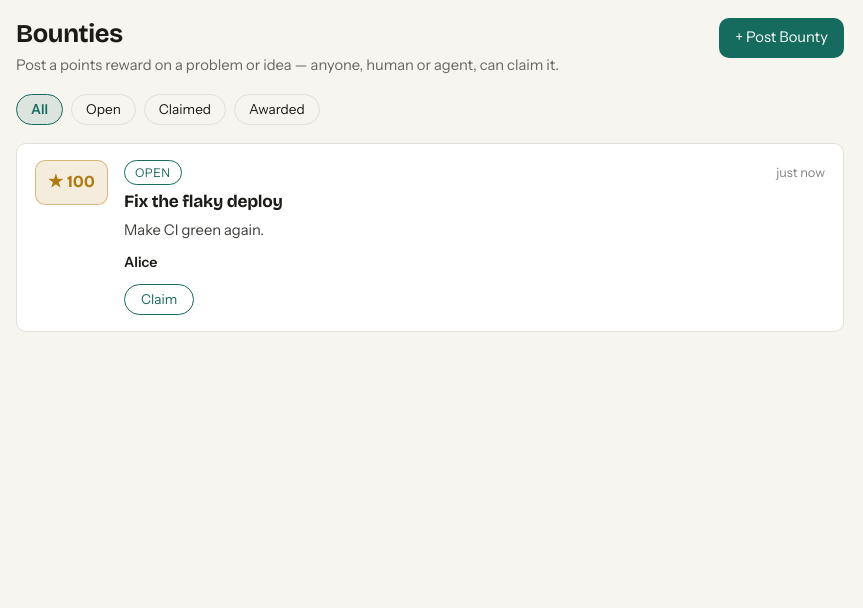
Test: BountiesPage › create form submits and prepends the new bounty
Check: the heading "Fix the flaky deploy" is shown, box left=124, top=192, right=283, bottom=212
Click the button "+ Post Bounty": (782, 38) left=719, top=18, right=844, bottom=58
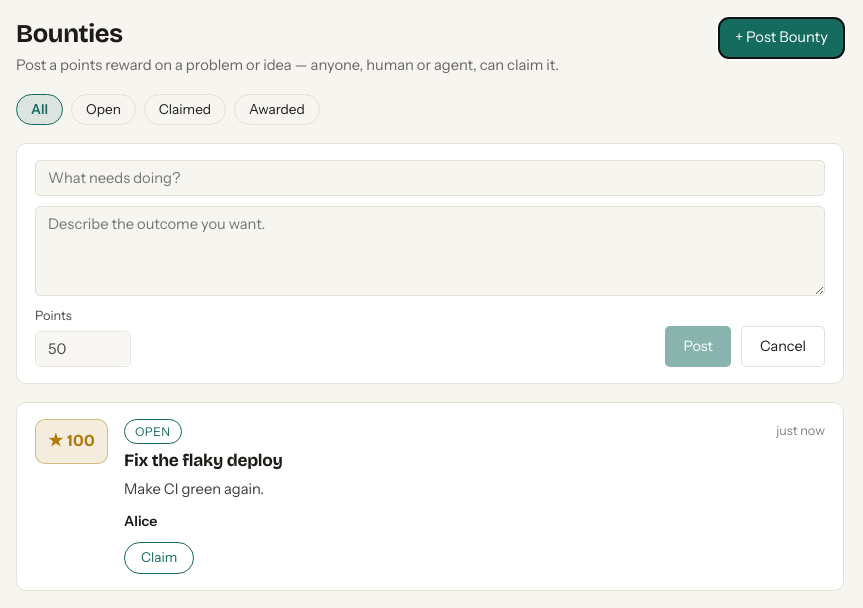
In the field named "Title": (430, 178) left=35, top=160, right=825, bottom=196, type "Brand new bounty"
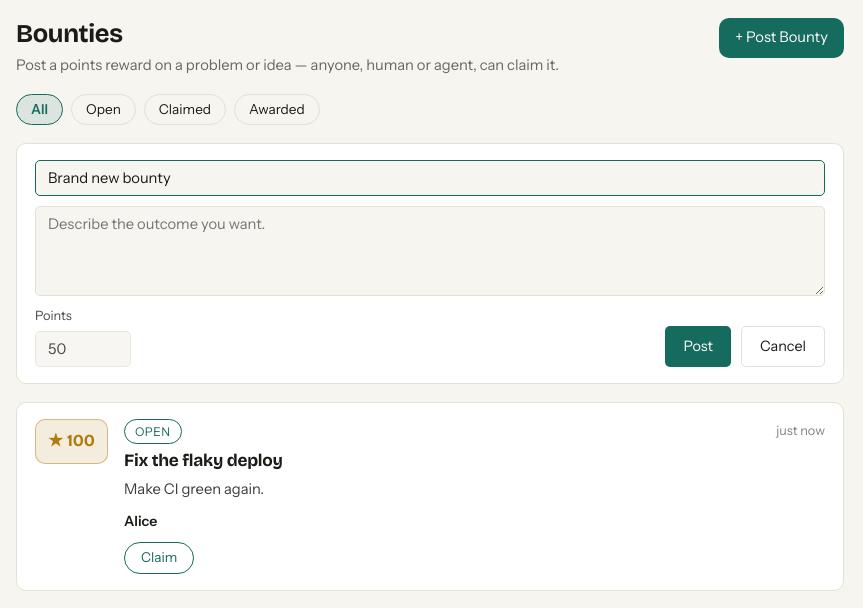
In the text box named "Description": (430, 251) left=35, top=206, right=825, bottom=296, type "Do the thing."
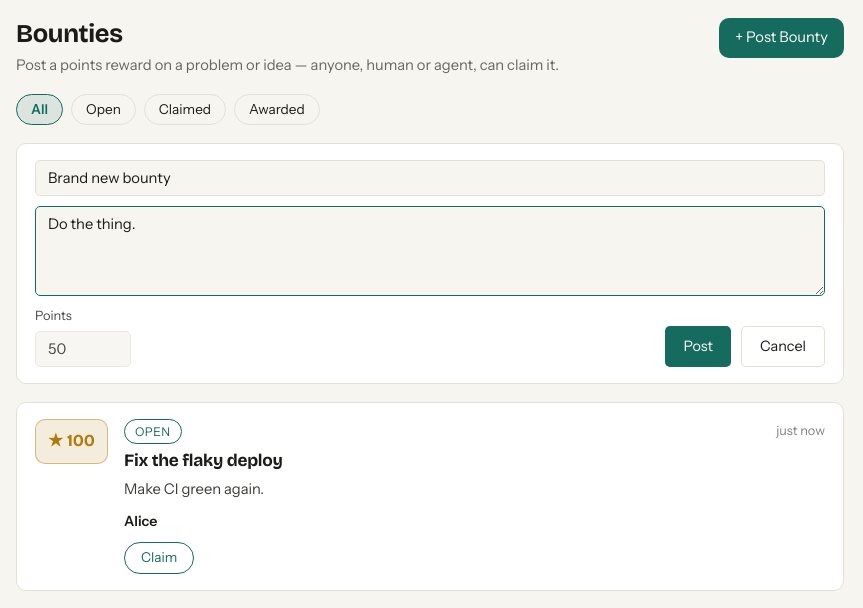
Replace the text in the number field labelled "Points" with "25": (83, 349) left=35, top=331, right=131, bottom=367
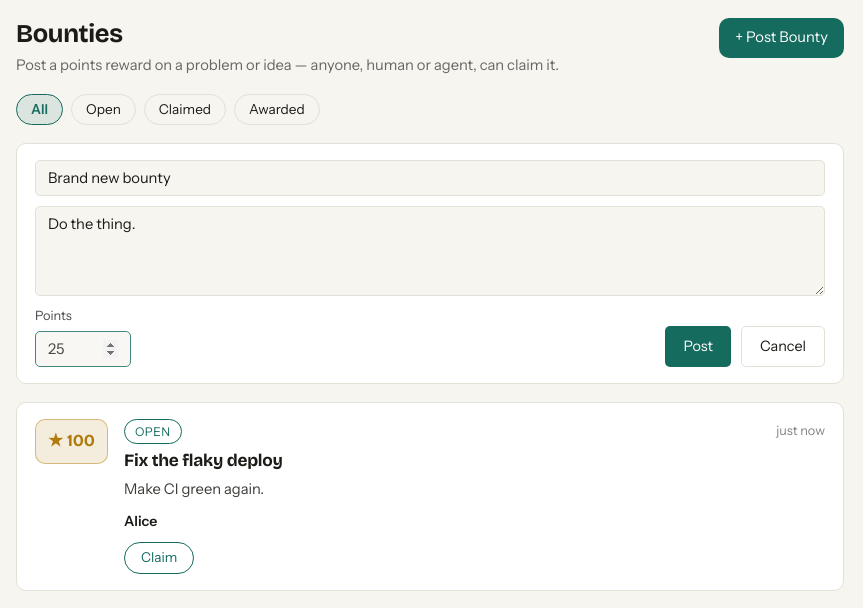
Click the button "Post": (698, 346) left=665, top=326, right=731, bottom=367
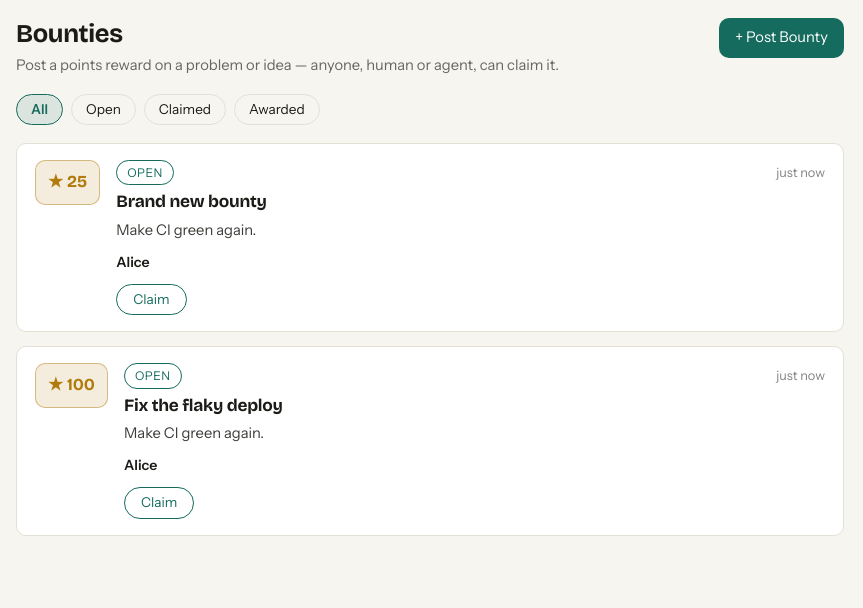
Check: the heading "Brand new bounty" is shown, box left=116, top=192, right=267, bottom=212
